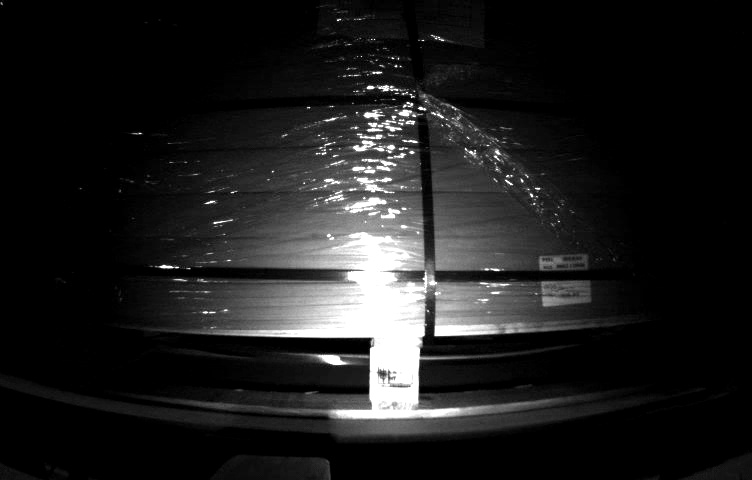True Barcode: (541, 256, 590, 304)
